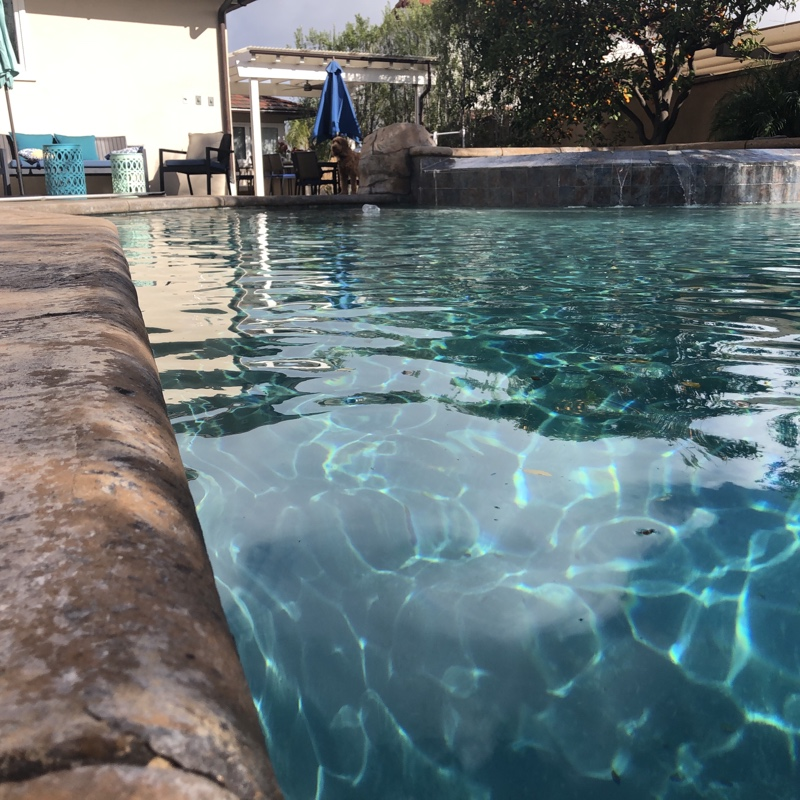Plastic Bottle: (358, 203, 383, 223)
